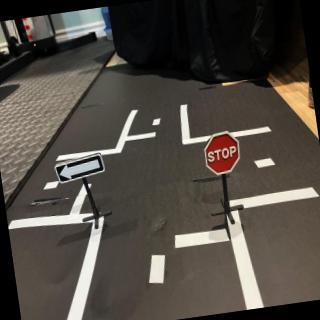sign_oneway_left: (54, 152, 107, 185)
sign_stop: (204, 132, 243, 176)
